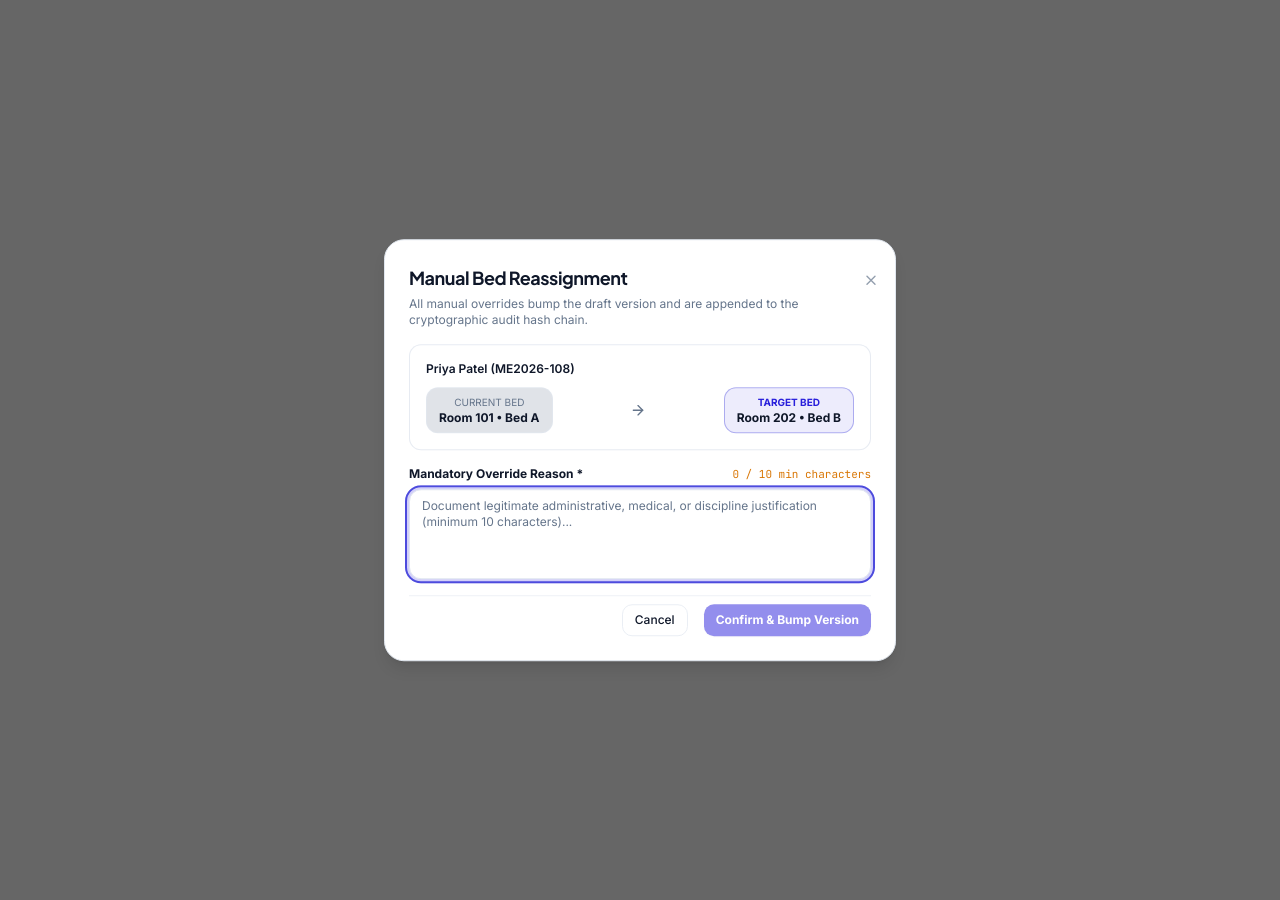
OverrideModal Component › enforces mandatory reason >= 10 characters before submit is enabled
Expected: the button "Confirm & Bump Version" is disabled, [704,604,871,636]
Replace the text in the text box with placeholder "Document legitimate administrative, medical, or discipline justification" with "Short" at (640, 534), box [409,489,871,579]
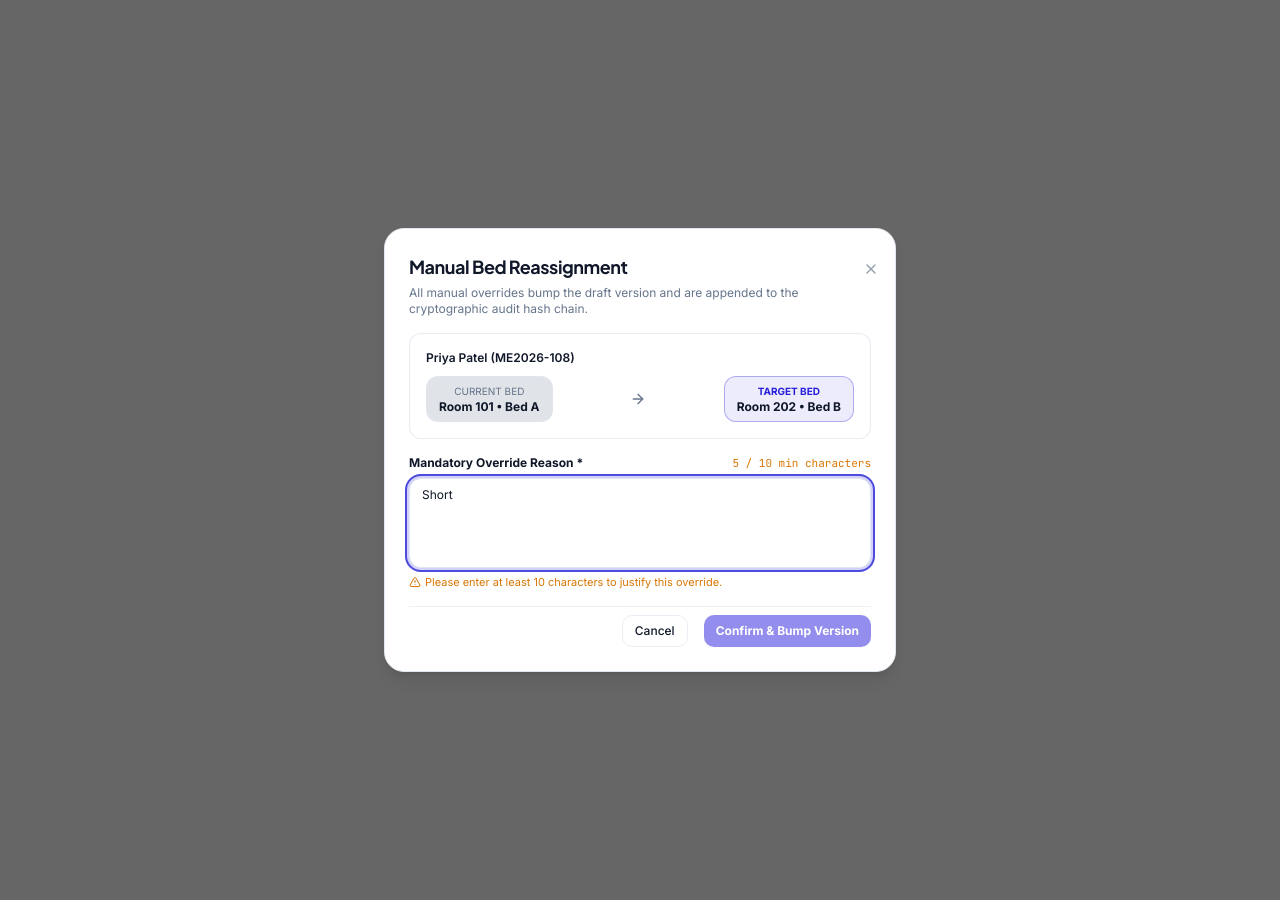
Expected: the button "Confirm & Bump Version" is disabled, [704,615,871,647]
Replace the text in the text box with placeholder "Document legitimate administrative, medical, or discipline justification" with "Approved by Hostel Dean due to valid medical accommodation request." at (640, 522), box [409,478,871,568]
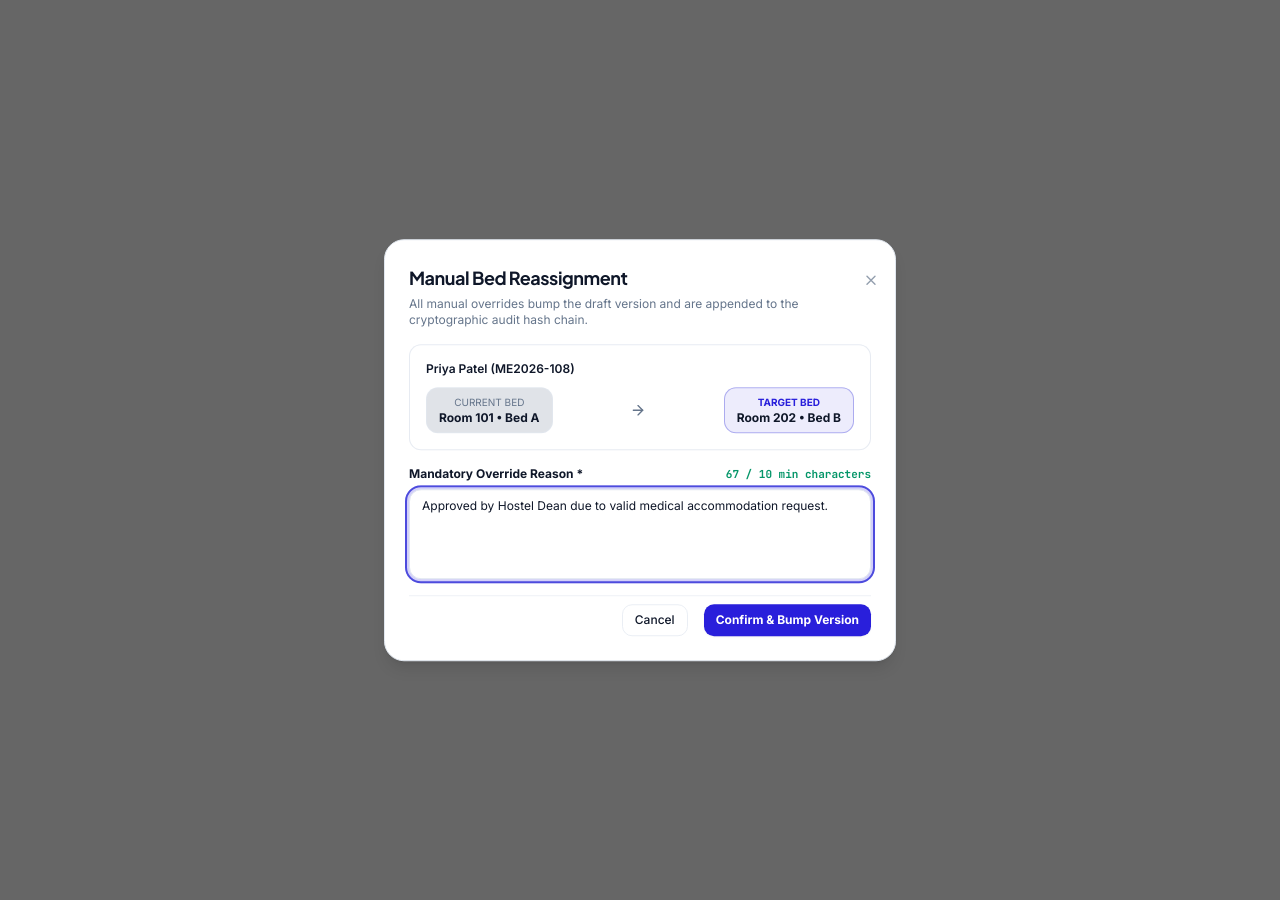
Now the button "Confirm & Bump Version" is enabled, box [704,604,871,636]
